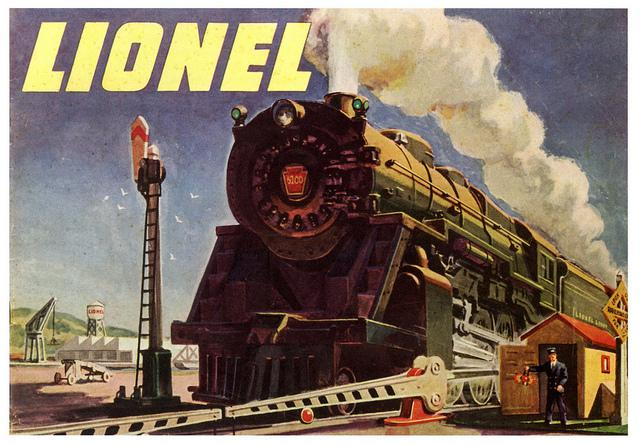Train: (171, 93, 619, 405)
